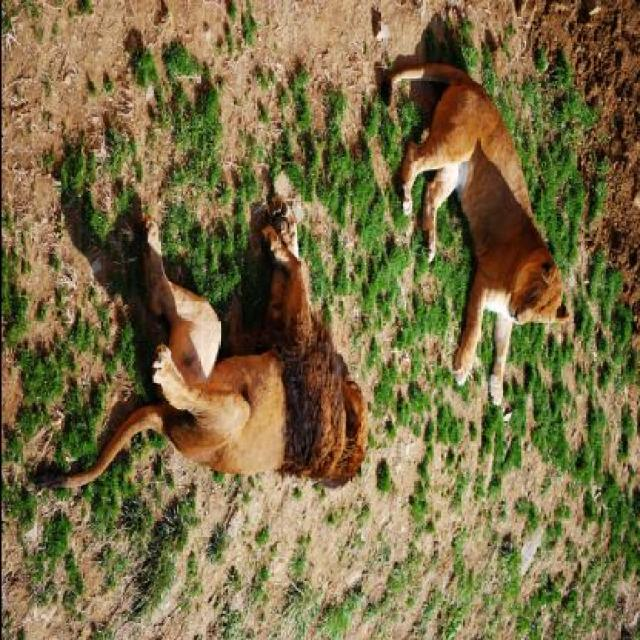Lion: (26, 171, 377, 578), (377, 24, 580, 416)
